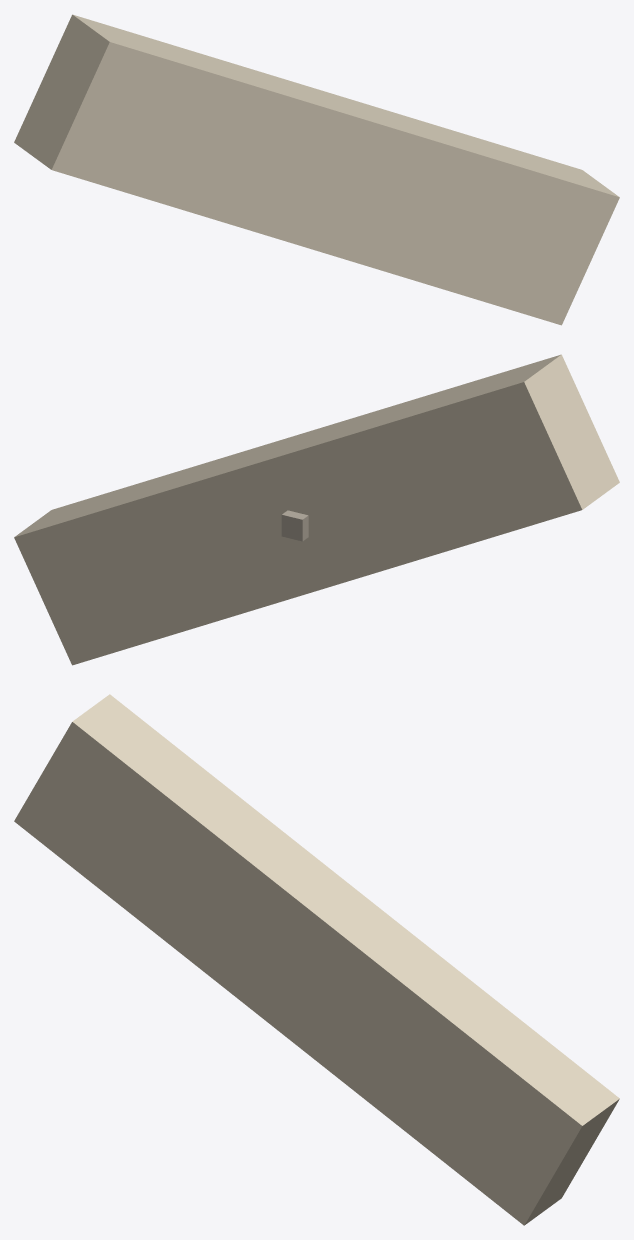
File: historic-palestine-11_29_3533_3232.glb
3 views of the same model, one above another, from view 1: azimuth 30°, elevation 25°; view 2: azimuth 150°, elevation 25°; view 3: azimuth 330°, elevation 25° (orthographic).
Parts seen in each view (by area): view 1: Building_; view 2: Building_, Roof access hut; view 3: Building_.
Boxes of the visible parts, left/top/right/bottom form: Building_: left=14, top=14, right=619, bottom=325; Building_: left=14, top=354, right=619, bottom=665; Roof access hut: left=281, top=510, right=308, bottom=541; Building_: left=14, top=694, right=619, bottom=1225.
Size of the model in its own units: 65.52 by 43.38 by 8.7.
